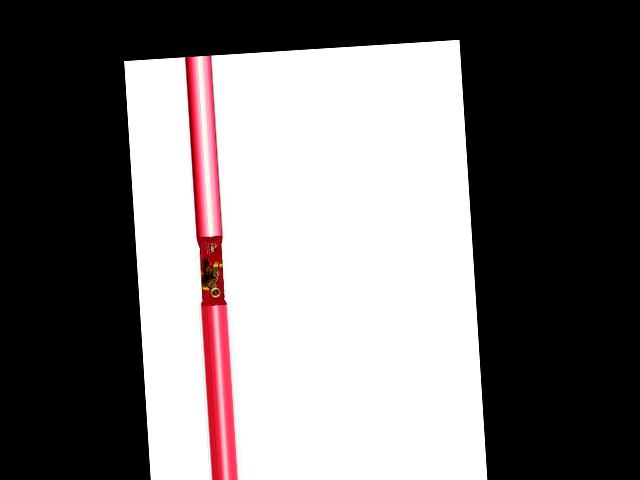chocolate: (194, 234, 225, 305)
